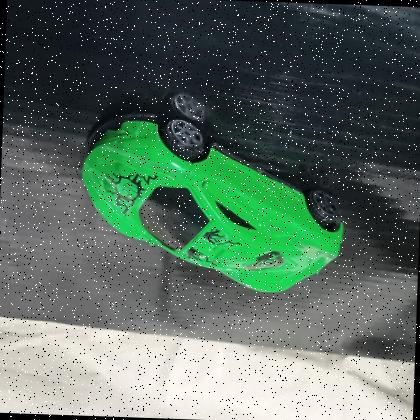Car: (70, 105, 351, 301)
